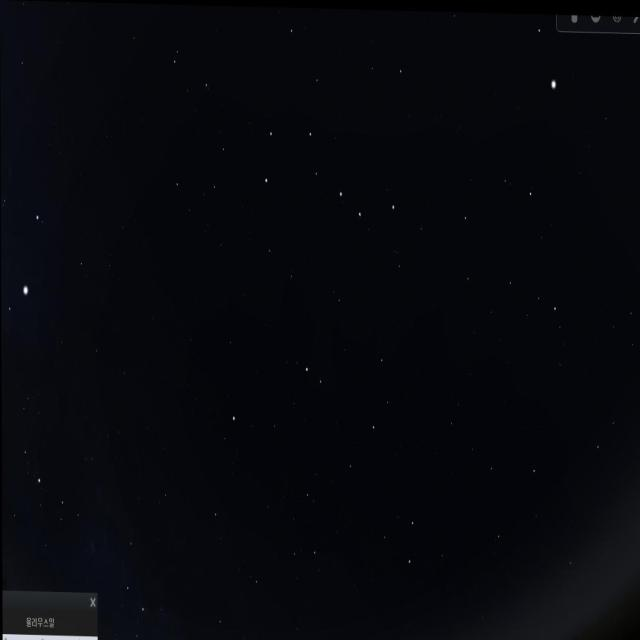ursa_major: (254, 106, 401, 232)
